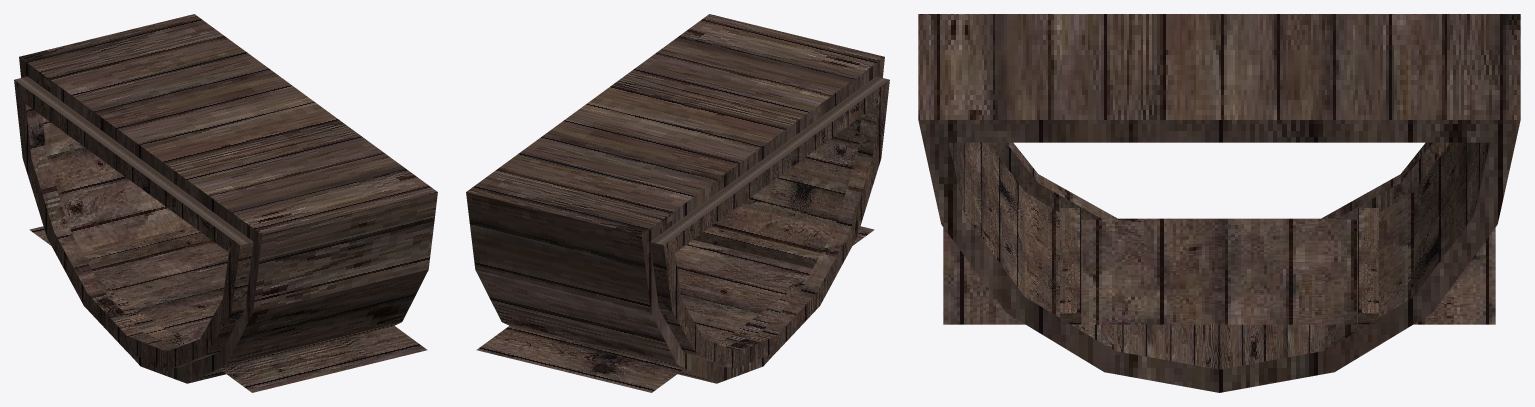
The model's file is ship.glb.
The picture shows the model from 3 angles, left to right: view 1: azimuth 30°, elevation 25°; view 2: azimuth 150°, elevation 25°; view 3: azimuth 270°, elevation 25°; orthographic projection. The views are drawn at different scales.
Visible parts, largest first — view 1: hull, trim, floor, trim_floor; view 2: hull, trim, floor, trim_floor; view 3: hull, floor, trim, trim_floor.
Boxes of the visible parts, x1,y1,x2,y2 form: hull: (19,14,437,383); trim: (14,76,253,369); floor: (29,226,427,392); trim_floor: (83,226,210,268); hull: (466,14,884,383); trim: (650,76,889,369); floor: (476,226,874,392); trim_floor: (693,226,820,268); hull: (918,14,1520,392); floor: (943,218,1495,324); trim: (989,142,1449,219); trim_floor: (1060,208,1378,324).
Size of the model in its own units: 5.38 by 6 by 12.
Materials: 1 (1 with a texture image).
